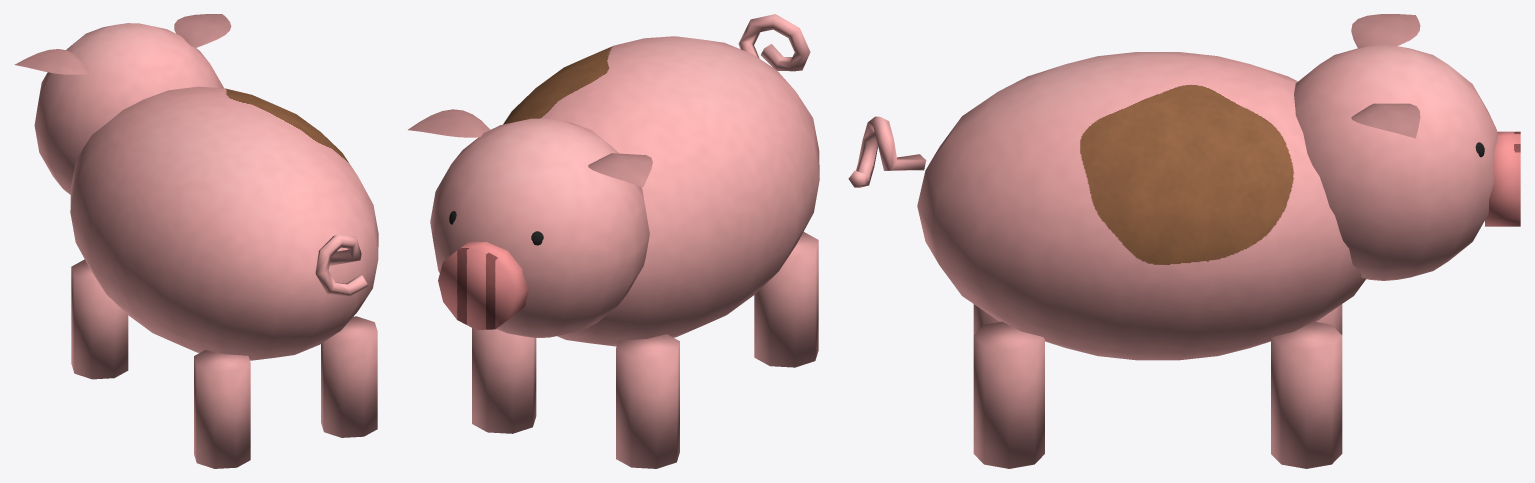
The model's file is pig.glb.
3 views of the same model, side by side, from view 1: azimuth 30°, elevation 25°; view 2: azimuth 150°, elevation 25°; view 3: azimuth 270°, elevation 25° (orthographic). The views are drawn at different scales.
Visible parts, largest first — view 1: Body, Head; view 2: Body, Head; view 3: Body, Head.
Boxes of the visible parts, bbox=[...] form: Body: bbox=[70, 86, 378, 468]; Head: bbox=[14, 14, 231, 194]; Body: bbox=[472, 14, 819, 468]; Head: bbox=[408, 109, 652, 337]; Body: bbox=[848, 52, 1366, 468]; Head: bbox=[1294, 14, 1520, 280].
Bounding box in the file's own units: 0.5613 × 0.67 × 1.13.
1 material, 1 textured.
